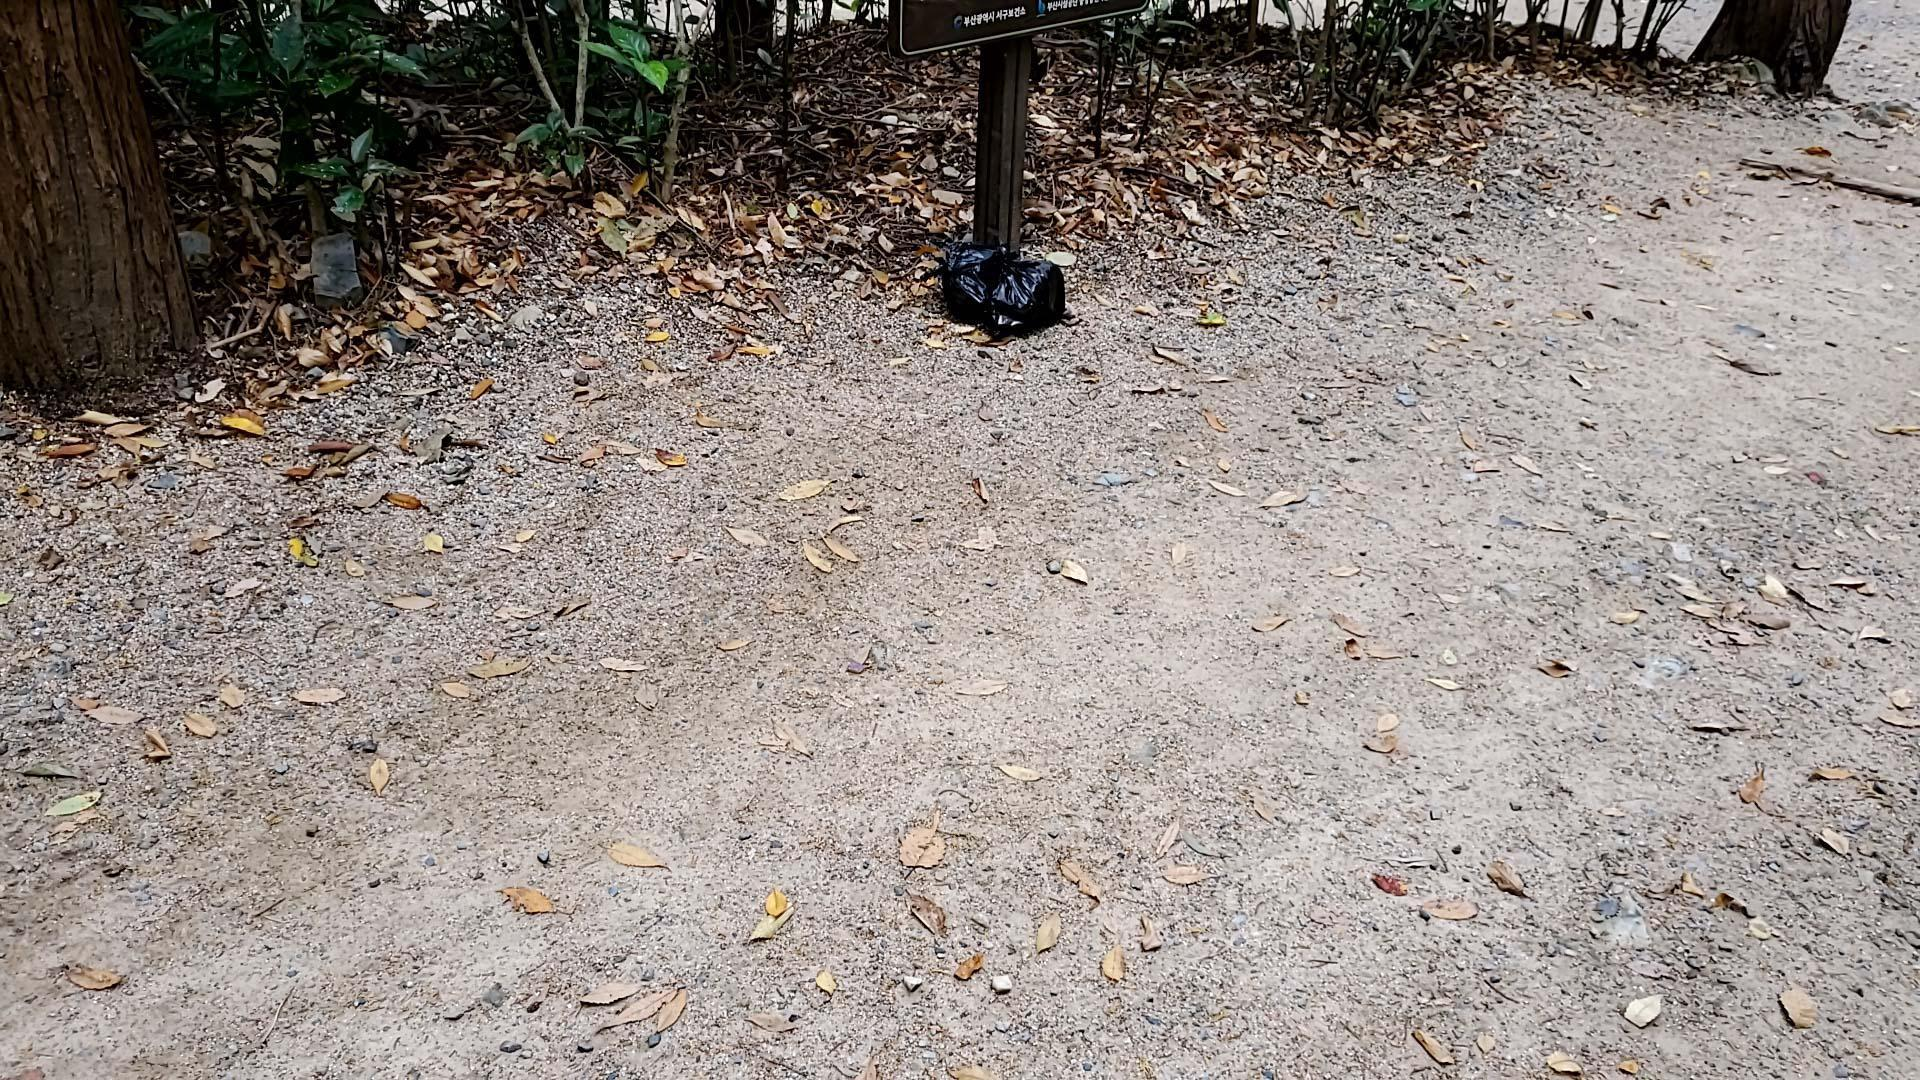black_bag: (920, 236, 1075, 342)
